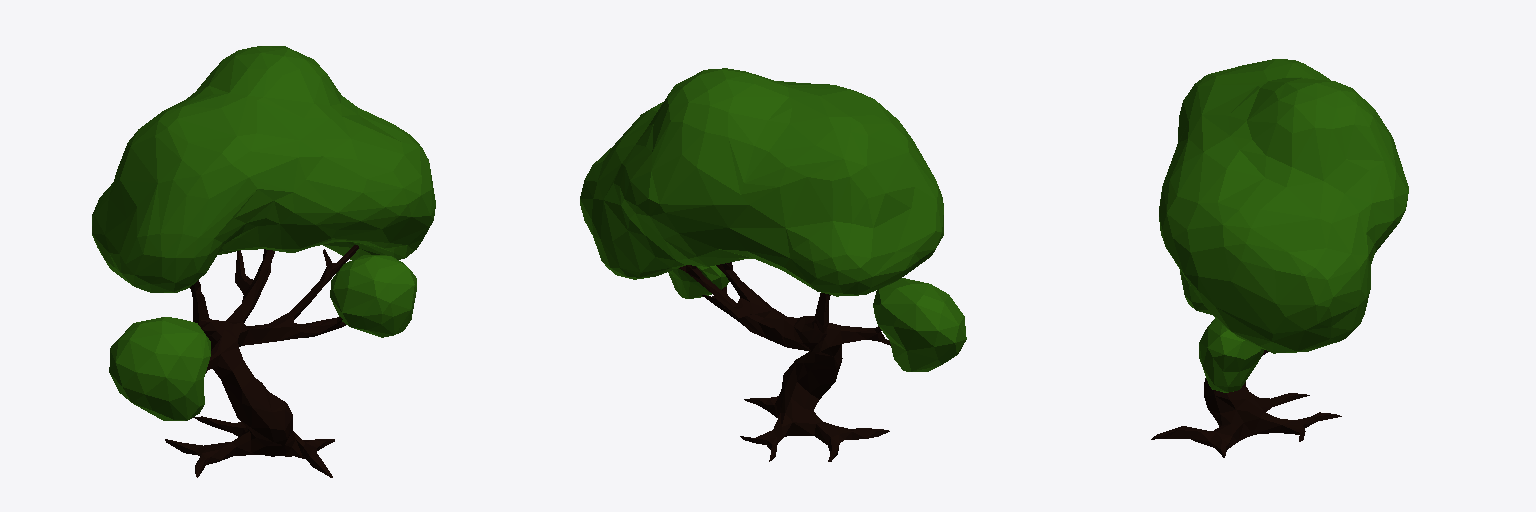
The model's file is mytree2.obj.
3 renders of one model, left to right at view 1: azimuth 30°, elevation 25°; view 2: azimuth 150°, elevation 25°; view 3: azimuth 270°, elevation 25°, orthographic.
Visible parts, largest first — view 1: Tree5_2_Cube.013; view 2: Tree5_2_Cube.013; view 3: Tree5_2_Cube.013.
Boxes of the visible parts, x1=… form: Tree5_2_Cube.013: x1=92, y1=46, x2=435, y2=477; Tree5_2_Cube.013: x1=580, y1=68, x2=966, y2=461; Tree5_2_Cube.013: x1=1151, y1=59, x2=1408, y2=457.
Size of the model in its own units: 39.48 by 41.66 by 26.51.